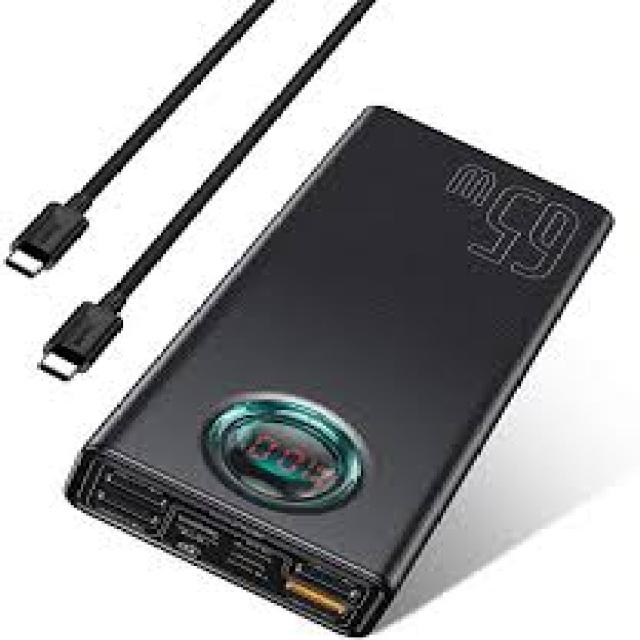power_bank: (59, 98, 616, 640)
